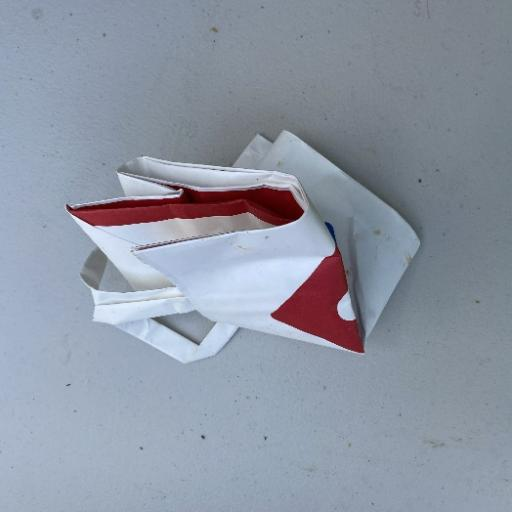Cardboard: (64, 128, 422, 364)
